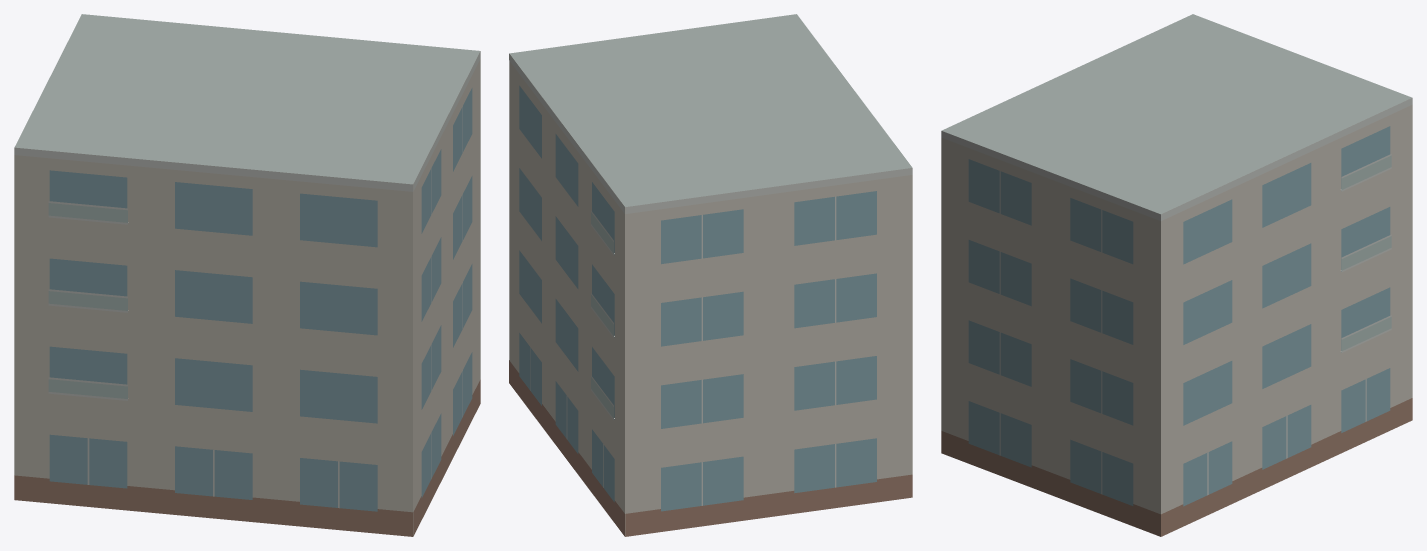
Rendered from survey-upis-32533406.glb.
The picture shows the model from 3 angles, left to right: view 1: azimuth 30°, elevation 25°; view 2: azimuth 150°, elevation 25°; view 3: azimuth 270°, elevation 25°; orthographic projection. The views are drawn at different scales.
Visible parts, largest first — view 1: survey-upis-32533406.tmp; view 2: survey-upis-32533406.tmp; view 3: survey-upis-32533406.tmp.
Part boxes in pixels (bbox=[...]): survey-upis-32533406.tmp: bbox=[14, 14, 480, 536]; survey-upis-32533406.tmp: bbox=[509, 14, 912, 536]; survey-upis-32533406.tmp: bbox=[941, 14, 1412, 536].
Bounding box in the file's own units: 15.33 × 11.5 × 15.24.
